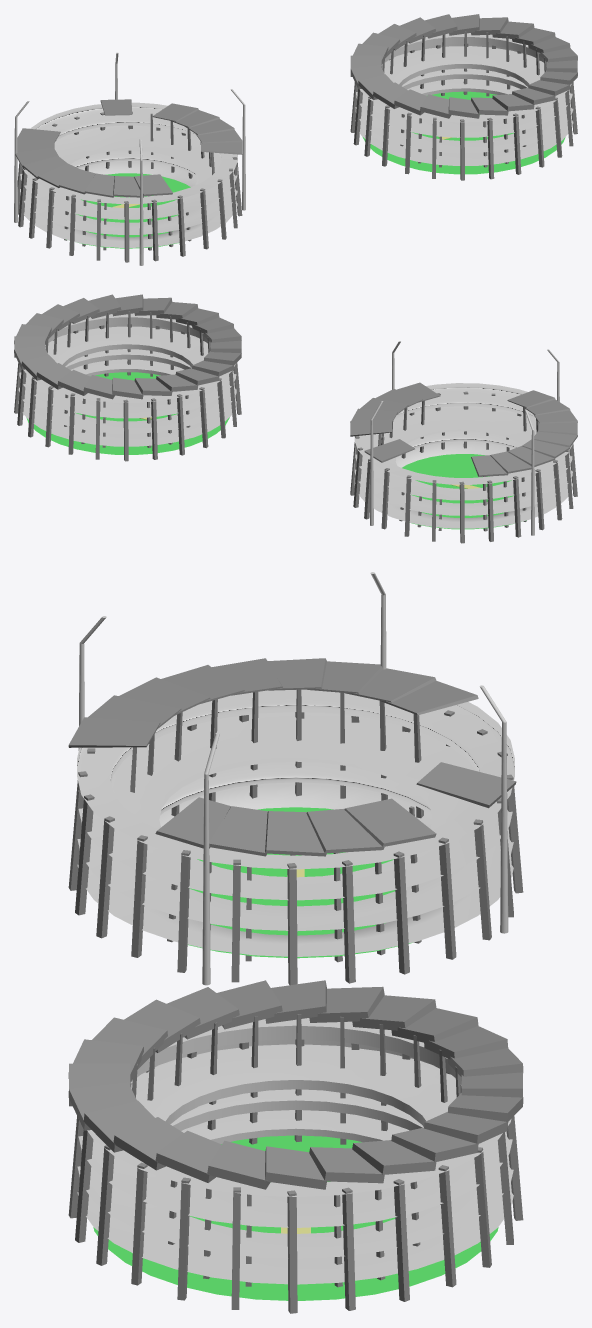
Rendered from Wankhede.glb.
3 renders of one model, top to bottom at view 1: azimuth 30°, elevation 25°; view 2: azimuth 150°, elevation 25°; view 3: azimuth 270°, elevation 25°, orthographic. The views are drawn at different scales.
Parts seen in each view (by area): view 1: Stadium_Left_Stands, Stadium_Right_Stands, Stadium_Right_Boundary, Stadium_Left_Base, Stadium_Right_Field, Floodlights, Stadium_Left_Field; view 2: Stadium_Left_Stands, Stadium_Right_Stands, Stadium_Right_Boundary, Stadium_Left_Base, Stadium_Left_Field, Stadium_Right_Field, Floodlights; view 3: Stadium_Left_Stands, Stadium_Right_Stands, Stadium_Right_Boundary, Stadium_Left_Base, Stadium_Right_Field, Floodlights, Stadium_Left_Field.
Boxes of the visible parts, x1,y1,x2,y2 form: Stadium_Left_Stands: (17, 102, 242, 262); Stadium_Right_Stands: (350, 14, 577, 180); Stadium_Right_Boundary: (355, 33, 574, 165); Stadium_Left_Base: (15, 99, 242, 197); Stadium_Right_Field: (362, 91, 565, 174); Floodlights: (14, 52, 245, 265); Stadium_Left_Field: (66, 173, 190, 248); Stadium_Left_Stands: (350, 383, 577, 543); Stadium_Right_Stands: (14, 294, 241, 461); Stadium_Right_Boundary: (17, 313, 236, 446); Stadium_Left_Base: (350, 382, 577, 476); Stadium_Left_Field: (402, 454, 526, 529); Stadium_Right_Field: (26, 372, 229, 454); Floodlights: (370, 341, 559, 535); Stadium_Left_Stands: (68, 689, 523, 985); Stadium_Right_Stands: (68, 980, 523, 1313); Stadium_Right_Boundary: (77, 1018, 513, 1284); Stadium_Left_Base: (68, 658, 516, 856); Stadium_Right_Field: (93, 1135, 498, 1300); Floodlights: (78, 572, 508, 985); Stadium_Left_Field: (188, 807, 412, 958).
Size of the model in its own units: 5.58 by 1.2 by 2.06.
